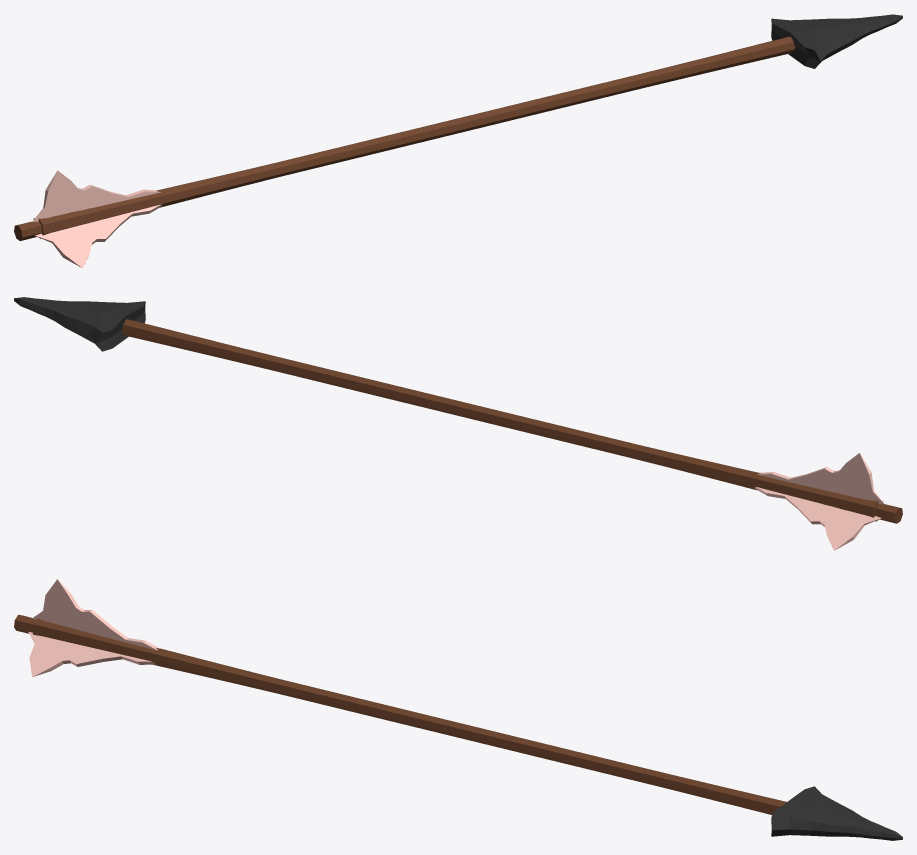
The model's file is Arrow.fbx.
3 renders of one model, top to bottom at view 1: azimuth 30°, elevation 25°; view 2: azimuth 150°, elevation 25°; view 3: azimuth 330°, elevation 25°, orthographic.
Visible parts, largest first — view 1: Arrow; view 2: Arrow; view 3: Arrow.
Boxes of the visible parts, x1,y1,x2,y2 form: Arrow: [14, 14, 902, 268]; Arrow: [14, 297, 902, 550]; Arrow: [14, 579, 902, 840].
Size of the model in its own units: 272 by 23.47 by 27.05.
